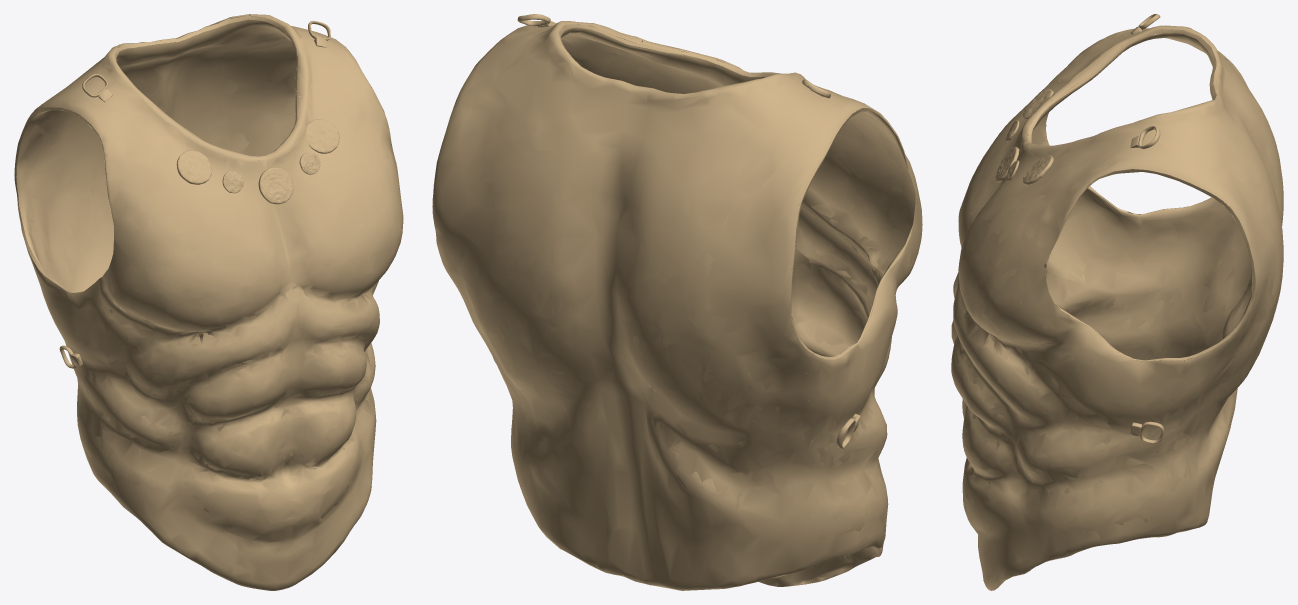
The model's file is gladiator_chest-e2f685b66fb6.glb.
The picture shows the model from 3 angles, left to right: view 1: azimuth 30°, elevation 25°; view 2: azimuth 150°, elevation 25°; view 3: azimuth 270°, elevation 25°; orthographic projection. The views are drawn at different scales.
Visible parts, largest first — view 1: Object_12, Object_14, Object_13, Object_15, Object_16, Object_10, Object_5, Object_6; view 2: Object_12, Object_13, Object_14, Object_15, Object_16; view 3: Object_12, Object_14, Object_15, Object_13, Object_16, Object_6, Object_2.
Boxes of the visible parts, box(x1,y1,x2,y2) form: Object_12: box(14, 14, 403, 590); Object_14: box(16, 19, 402, 524); Object_13: box(15, 15, 399, 590); Object_15: box(17, 20, 399, 546); Object_16: box(14, 15, 392, 576); Object_10: box(258, 167, 293, 204); Object_5: box(176, 122, 317, 184); Object_6: box(236, 119, 339, 175); Object_12: box(432, 21, 920, 590); Object_13: box(434, 21, 922, 588); Object_14: box(466, 28, 915, 586); Object_15: box(476, 37, 922, 581); Object_16: box(432, 24, 915, 590); Object_12: box(951, 25, 1283, 590); Object_14: box(951, 35, 1283, 586); Object_15: box(952, 33, 1283, 589); Object_13: box(953, 26, 1283, 588); Object_16: box(992, 29, 1255, 590); Object_6: box(1014, 124, 1053, 185); Object_2: box(1138, 14, 1160, 149).
Size of the model in its own units: 57.34 by 90.02 by 52.63.
